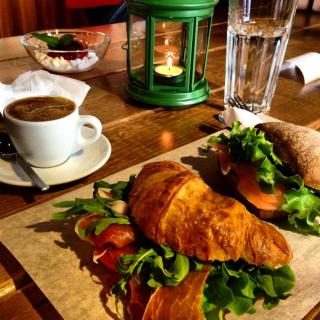Croissant: (126, 161, 291, 259)
